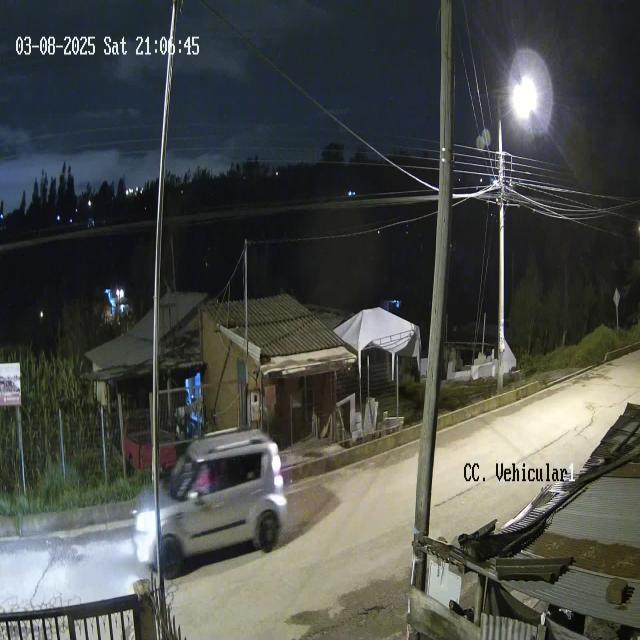SUV: (133, 425, 290, 572)
